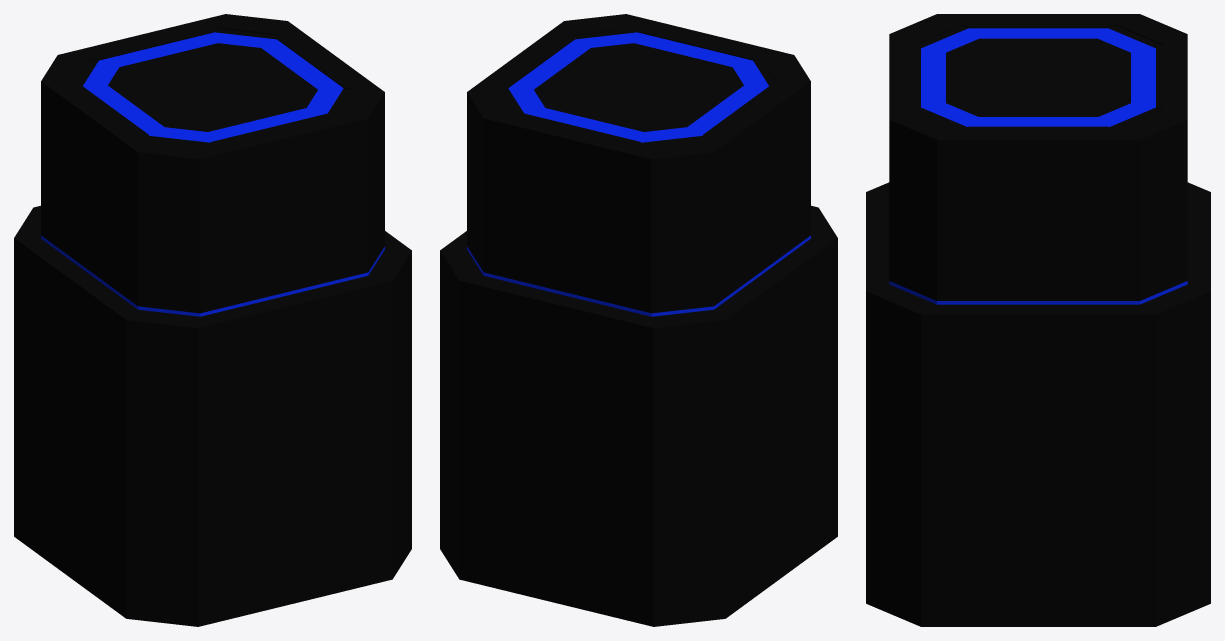
File: Attachment_Small Wall.fbx
3 views of the same model, side by side, from view 1: azimuth 30°, elevation 25°; view 2: azimuth 150°, elevation 25°; view 3: azimuth 270°, elevation 25° (orthographic). The views are drawn at different scales.
Parts seen in each view (by area): view 1: Attachment_Small_ Wall; view 2: Attachment_Small_ Wall; view 3: Attachment_Small_ Wall.
Boxes of the visible parts, x1,y1,x2,y2 form: Attachment_Small_ Wall: (14,14,411,626); Attachment_Small_ Wall: (440,14,837,626); Attachment_Small_ Wall: (866,14,1210,626).
Size of the model in its own units: 1 by 1.53 by 1.
